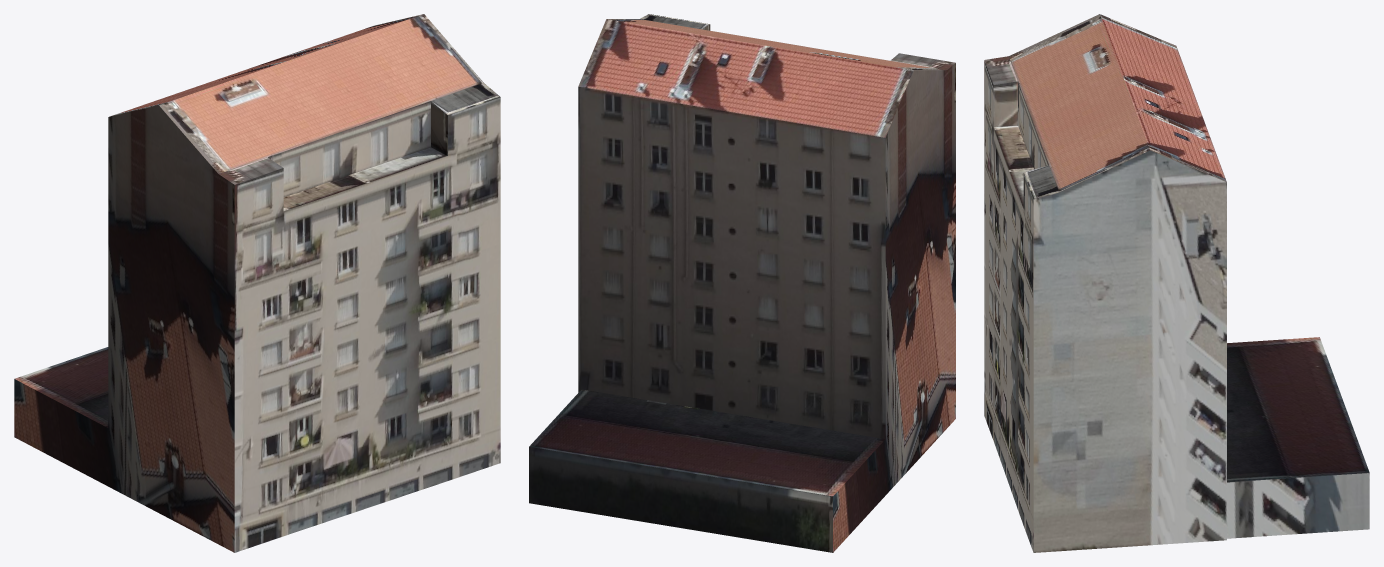
3 renders of one model, left to right at view 1: azimuth 30°, elevation 25°; view 2: azimuth 150°, elevation 25°; view 3: azimuth 270°, elevation 25°, orthographic. The views are drawn at different scales.
Parts seen in each view (by area): view 1: Z_UP; view 2: Z_UP; view 3: Z_UP.
Boxes of the visible parts, left/top/right/bottom form: Z_UP: left=14, top=14, right=500, bottom=552; Z_UP: left=529, top=14, right=955, bottom=552; Z_UP: left=984, top=14, right=1369, bottom=552.
Bounding box in the file's own units: 23.6 × 27.25 × 24.11.
2 materials, 1 textured.
